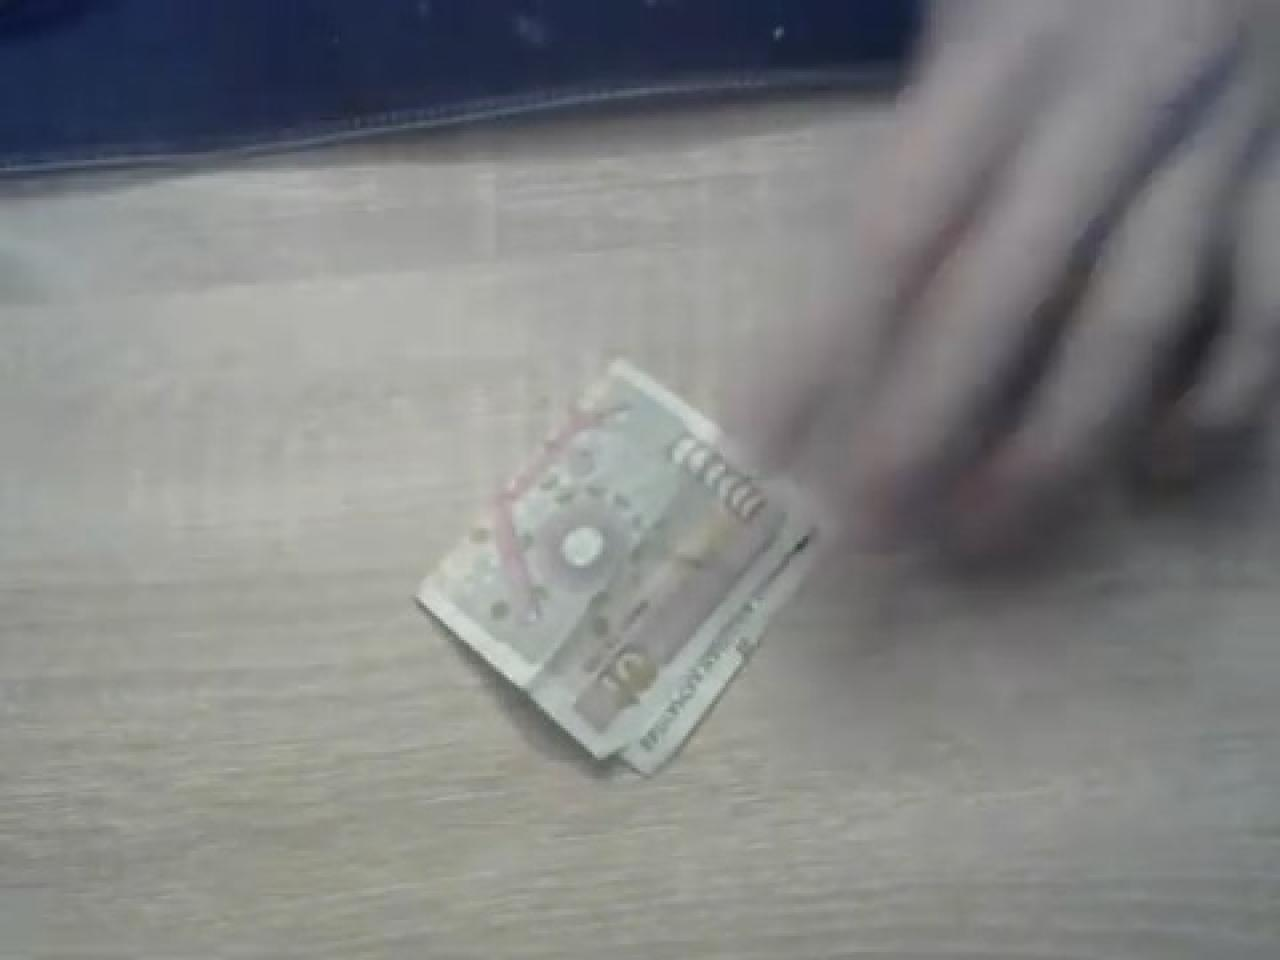10leva: (413, 352, 823, 778)
